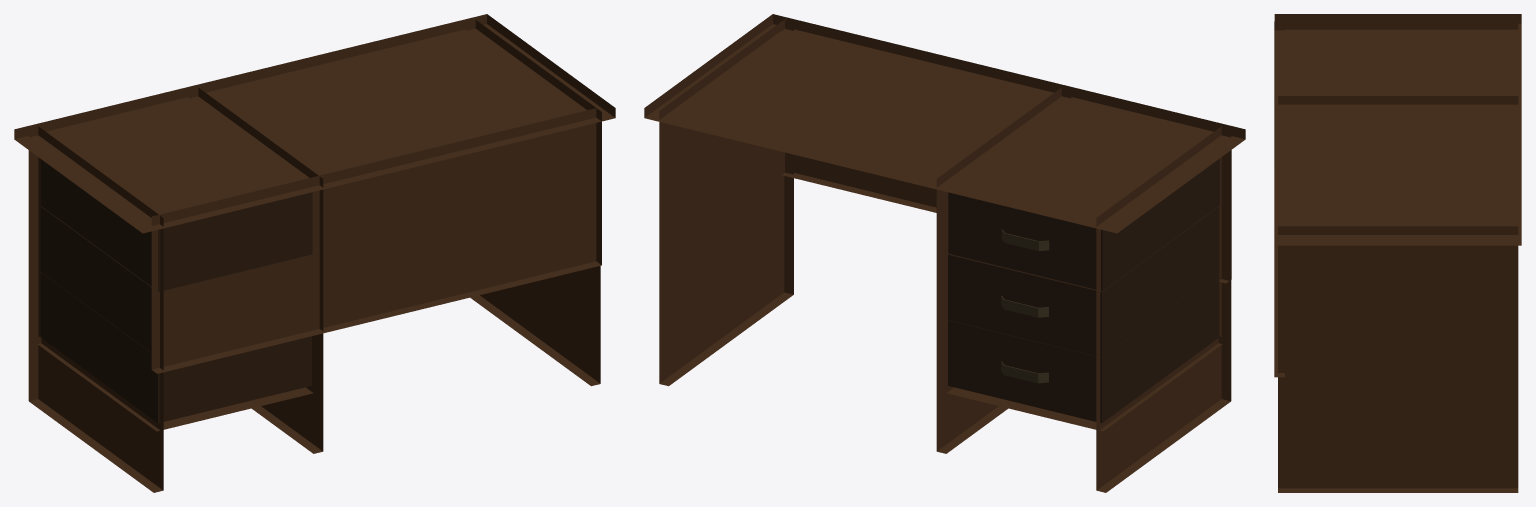
File: tabple1.fbx
3 renders of one model, left to right at view 1: azimuth 30°, elevation 25°; view 2: azimuth 150°, elevation 25°; view 3: azimuth 270°, elevation 25°, orthographic. The views are drawn at different scales.
Visible parts, largest first — view 1: tabple1, Cube.002, drawer1, Cube.001; view 2: tabple1, Cube.001, Cube.002, drawer1; view 3: tabple1.
Part boxes in pixels (box(x1,y1,x2,y2)): tabple1: box(14, 14, 615, 492); Cube.002: box(40, 272, 311, 423); drawer1: box(41, 159, 312, 291); Cube.001: box(40, 206, 151, 352); tabple1: box(644, 14, 1245, 492); Cube.001: box(948, 206, 1219, 357); Cube.002: box(948, 272, 1219, 423); drawer1: box(948, 158, 1219, 290); tabple1: box(1274, 14, 1521, 492).
Size of the model in its own units: 1.88 by 1.04 by 0.8846.
